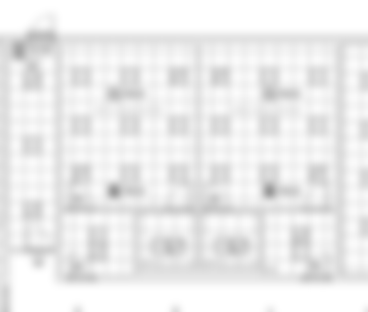door: (25, 223, 53, 254), (67, 182, 96, 210), (67, 251, 95, 280), (301, 182, 329, 210), (166, 182, 194, 210), (304, 250, 331, 278), (28, 11, 57, 36)
window: (1, 287, 13, 312)
